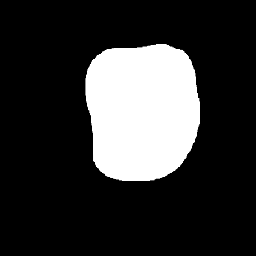mass: (94, 45, 199, 189)
